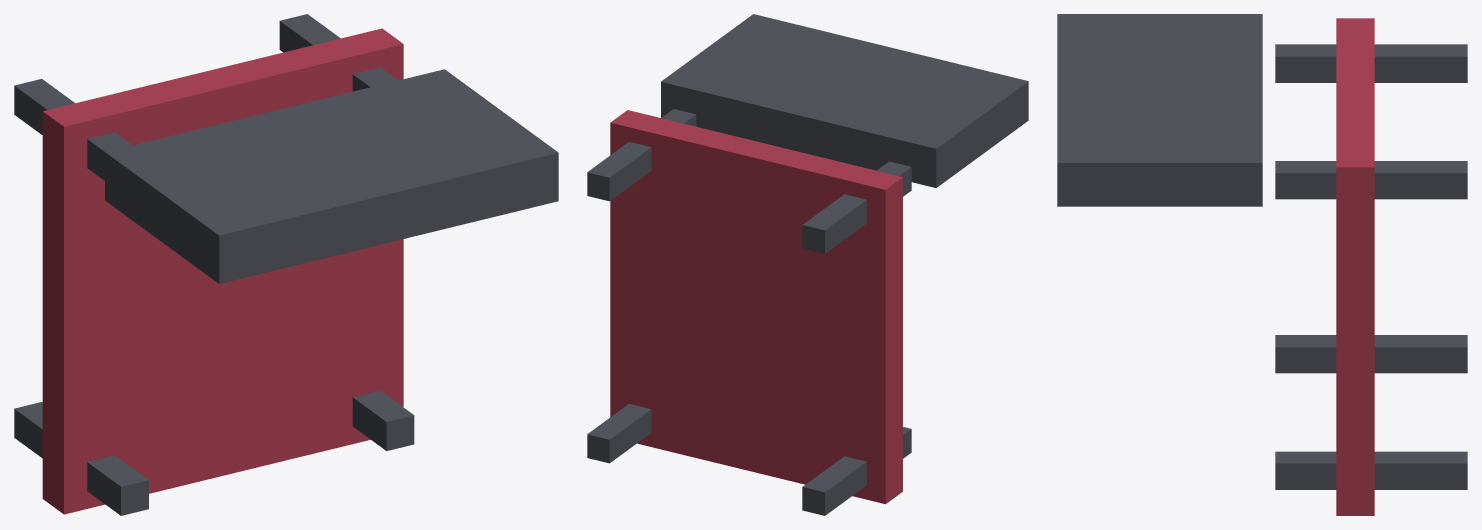
File: bed_v01.glb
The picture shows the model from 3 angles, left to right: view 1: azimuth 30°, elevation 25°; view 2: azimuth 150°, elevation 25°; view 3: azimuth 270°, elevation 25°; orthographic projection. The views are drawn at different scales.
Parts seen in each view (by area): view 1: box_0, box_5, box_1, box_2, box_3, box_4; view 2: box_0, box_5, box_2, box_4, box_1, box_3; view 3: box_5, box_0, box_2, box_1, box_3, box_4.
Part boxes in pixels (x1,y1,x2,y2): box_0: (42, 28, 403, 514); box_5: (105, 69, 558, 283); box_1: (14, 402, 148, 515); box_2: (14, 79, 132, 180); box_3: (352, 390, 414, 450); box_4: (279, 14, 397, 91); box_0: (610, 110, 902, 504); box_5: (661, 14, 1028, 187); box_2: (802, 161, 911, 253); box_4: (587, 109, 696, 201); box_1: (802, 427, 911, 515); box_3: (587, 403, 651, 463); box_5: (1057, 14, 1262, 206); box_0: (1336, 18, 1374, 515); box_2: (1275, 44, 1467, 82); box_1: (1275, 335, 1467, 373); box_3: (1275, 451, 1467, 489); box_4: (1275, 161, 1467, 199).
Size of the model in its own units: 1.1 by 1.22 by 1.28.
